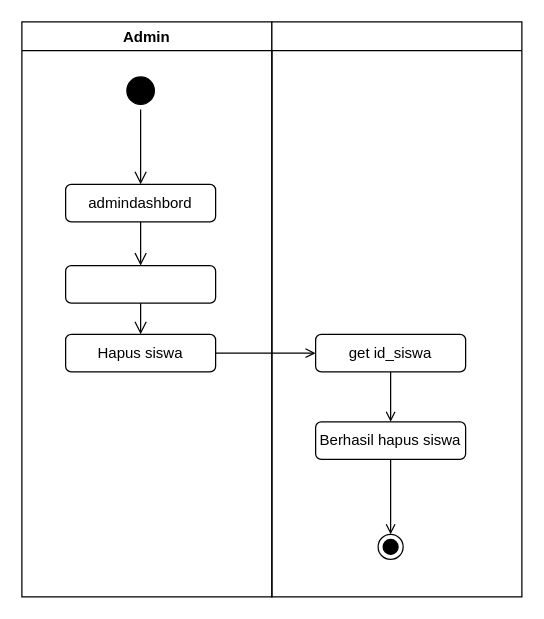
Image size: 544x619. Some labels were removed from this diagram. The shapes that lost their labels are listed below. From the top down, each one's box as (x1, y1, x2, y2) in pixels, then its label:
(64, 264, 216, 303): pilih menu siswa
(271, 21, 522, 597): Sistem
